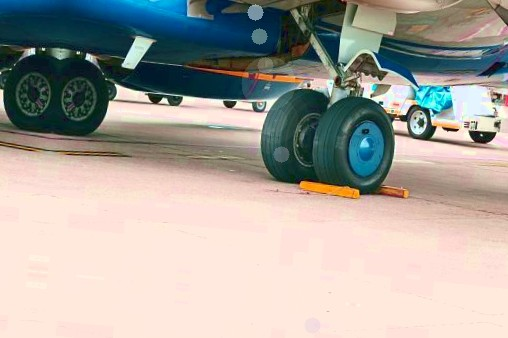chock: (296, 180, 361, 199), (353, 180, 411, 199)
wheel: (310, 91, 401, 195), (257, 84, 335, 185), (52, 57, 114, 138), (0, 52, 60, 132), (405, 105, 439, 141), (469, 128, 497, 143), (105, 81, 118, 101), (423, 124, 438, 139), (0, 70, 9, 90), (252, 100, 267, 112), (167, 95, 183, 106), (147, 93, 163, 103), (223, 99, 237, 108), (443, 126, 460, 132), (398, 113, 409, 121)
